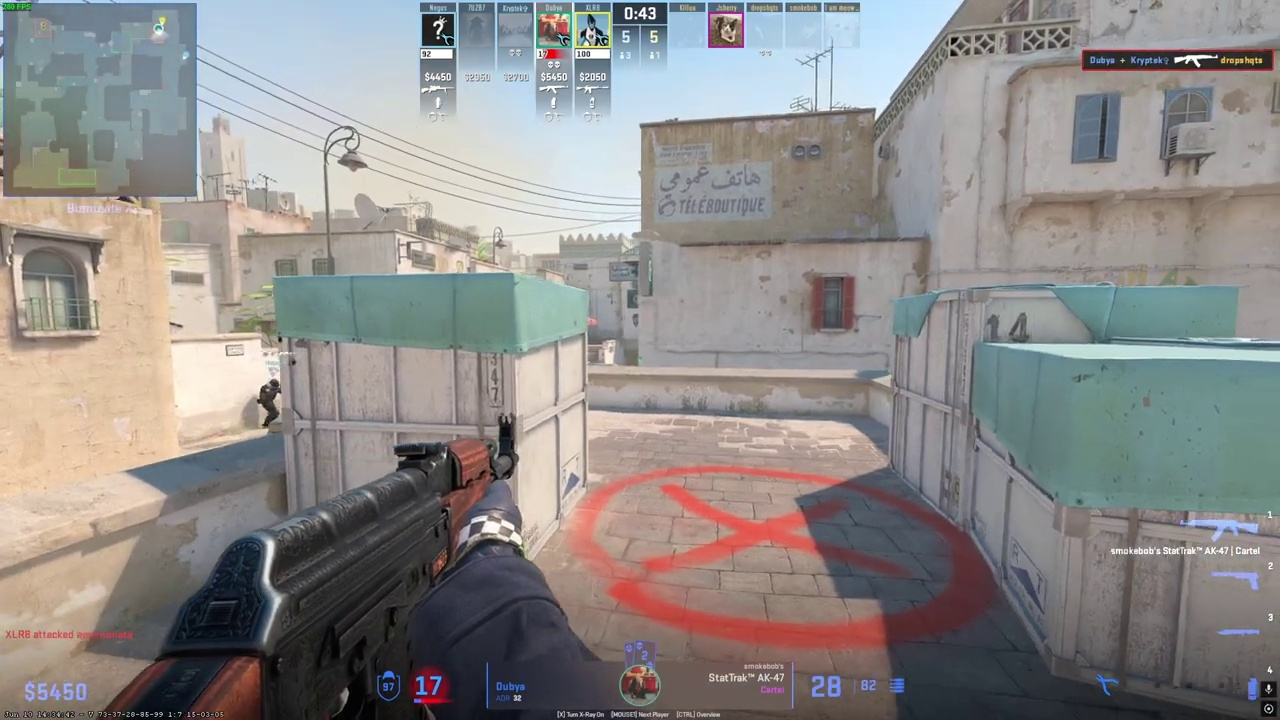CT: (260, 379, 281, 428)
